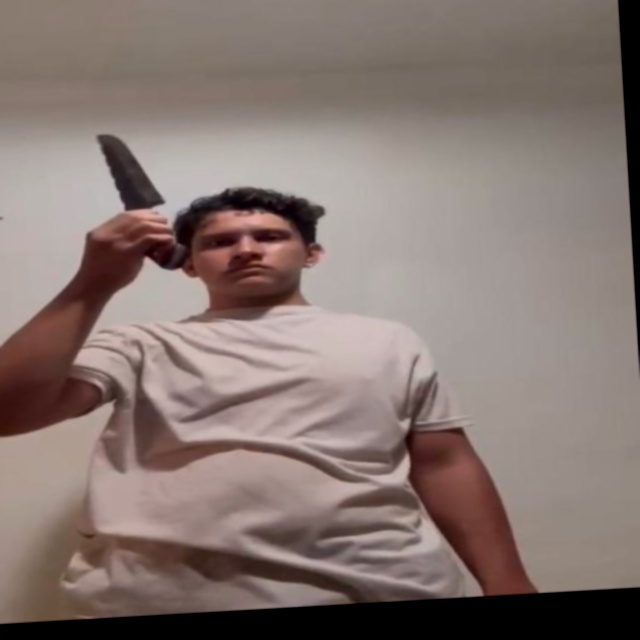Sharp-Object: (95, 130, 163, 216)
